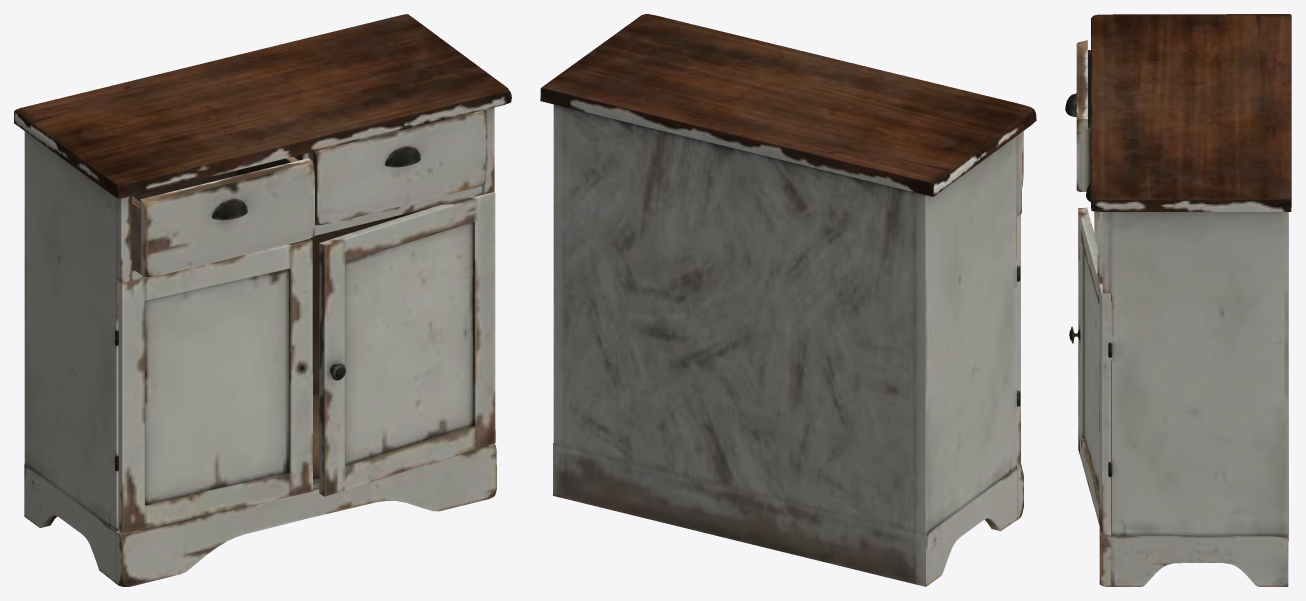
Rendered from dresser.glb.
3 renders of one model, left to right at view 1: azimuth 30°, elevation 25°; view 2: azimuth 150°, elevation 25°; view 3: azimuth 270°, elevation 25°, orthographic. The views are drawn at different scales.
Parts seen in each view (by area): view 1: painted_wooden_cabinet, painted_wooden_cabinet_door_01, painted_wooden_cabinet_door_02, painted_wooden_cabinet_drawer_01, painted_wooden_cabinet_drawer_02; view 2: painted_wooden_cabinet, painted_wooden_cabinet_door_01; view 3: painted_wooden_cabinet, painted_wooden_cabinet_door_02, painted_wooden_cabinet_drawer_01, painted_wooden_cabinet_drawer_02.
Boxes of the visible parts, x1,y1,x2,y2 form: painted_wooden_cabinet: [14, 14, 511, 586]; painted_wooden_cabinet_door_01: [118, 238, 312, 533]; painted_wooden_cabinet_door_02: [319, 192, 495, 496]; painted_wooden_cabinet_drawer_01: [132, 156, 314, 277]; painted_wooden_cabinet_drawer_02: [313, 110, 485, 224]; painted_wooden_cabinet: [540, 14, 1036, 586]; painted_wooden_cabinet_door_01: [1017, 214, 1020, 465]; painted_wooden_cabinet: [1091, 14, 1291, 586]; painted_wooden_cabinet_door_02: [1069, 207, 1110, 535]; painted_wooden_cabinet_drawer_01: [1065, 40, 1090, 191]; painted_wooden_cabinet_drawer_02: [1086, 183, 1102, 277].
Bounding box in the file's own units: 1.19 × 1.18 × 0.616.
1 material, 1 textured.
